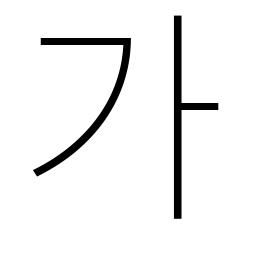Gaji: (158, 89, 202, 129)
